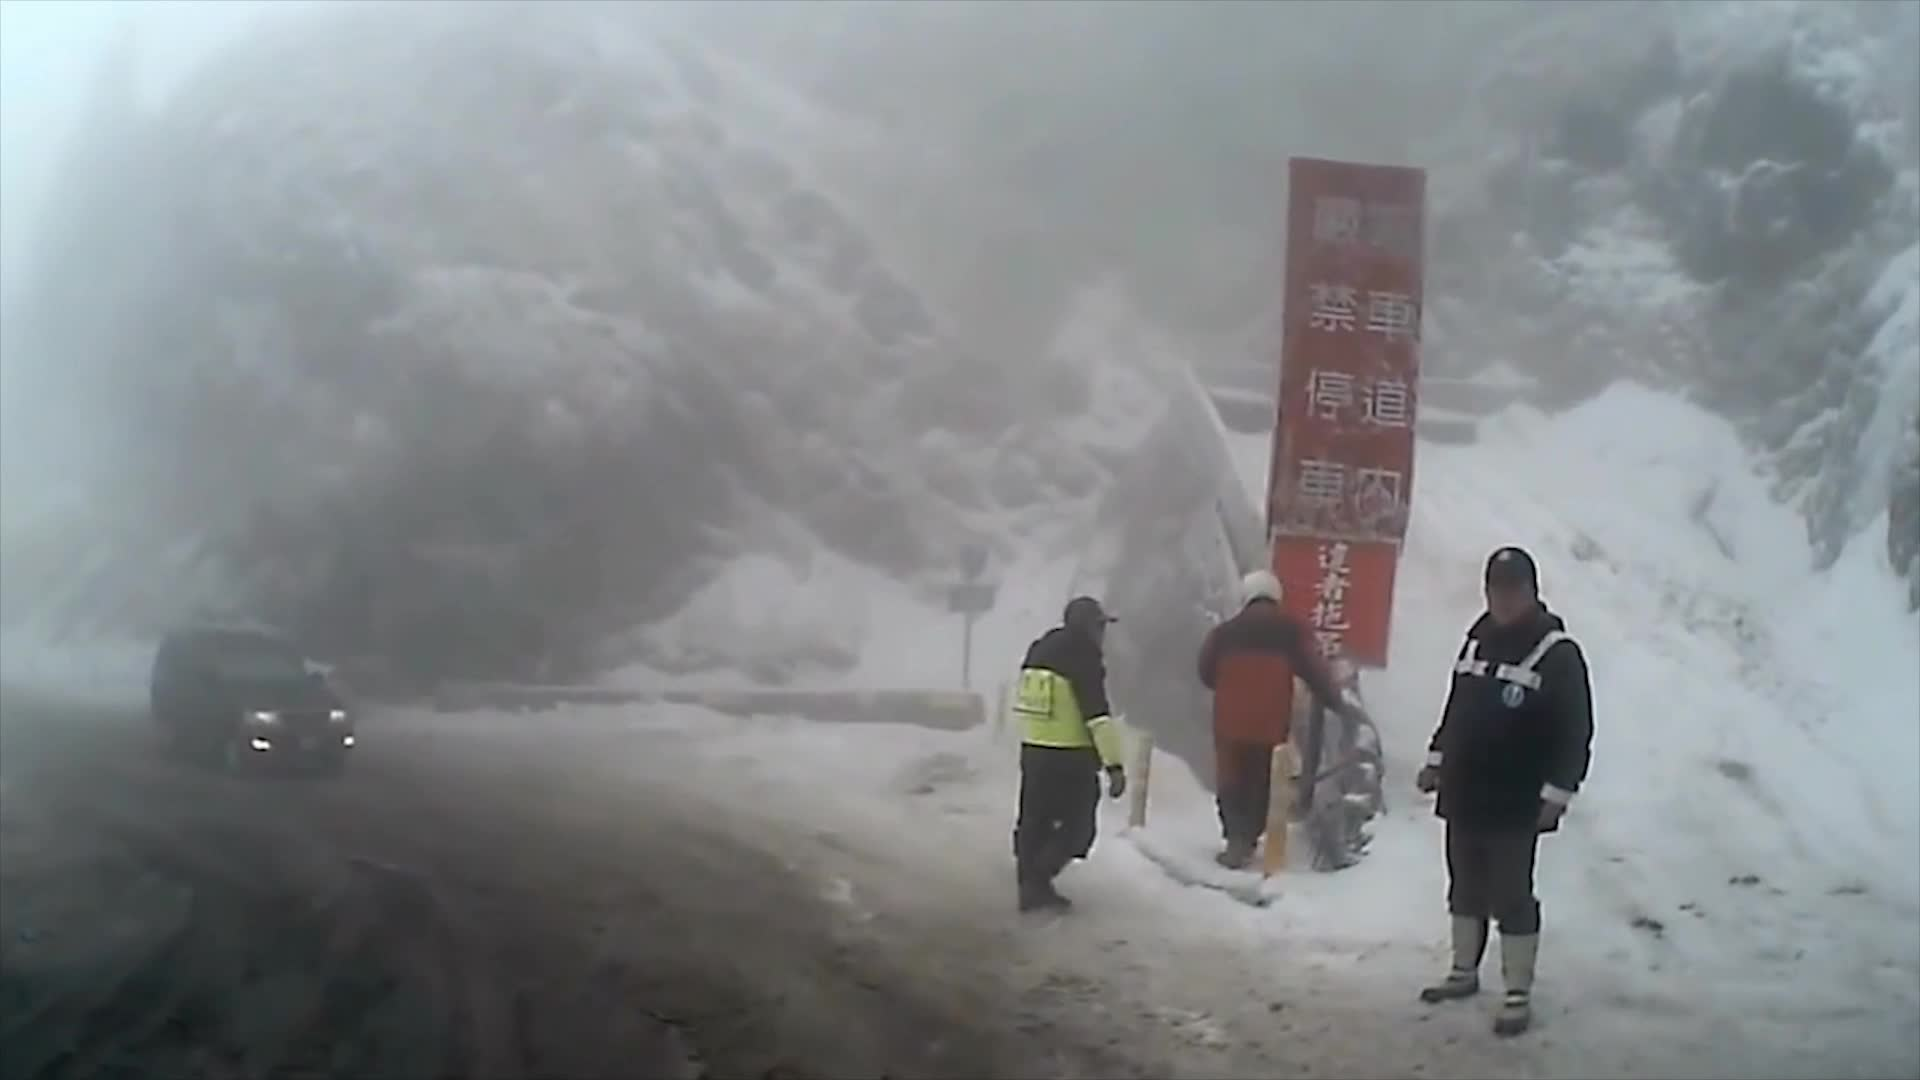pedestrian: (1416, 542, 1599, 1038), (1204, 569, 1350, 873), (1007, 602, 1118, 919)
vehicle: (147, 629, 355, 782)
